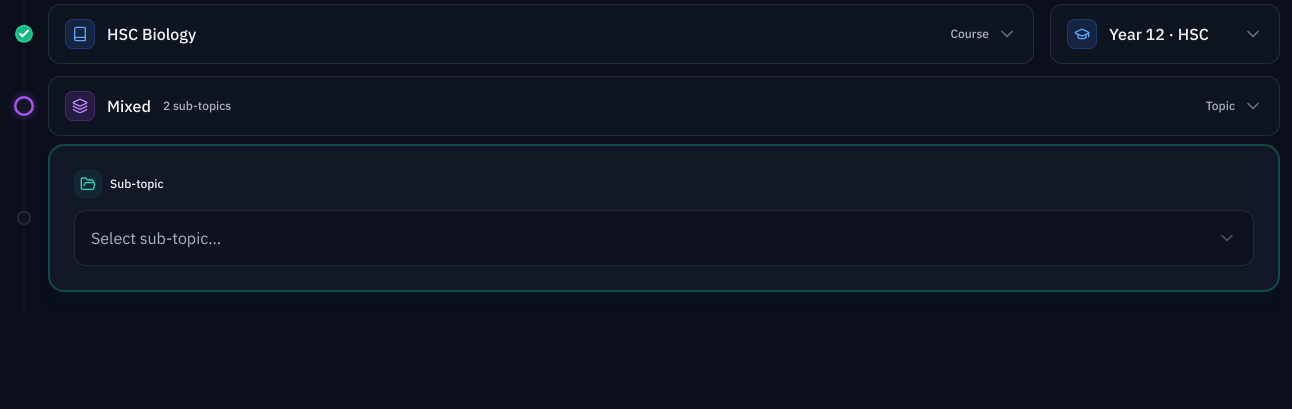
Test: the sub-topic question count › shows the total question count for a populated sub-topic, and says when one is empty
Click the button "Select sub-topic…" at (156, 238), box [74,210,1254,266]
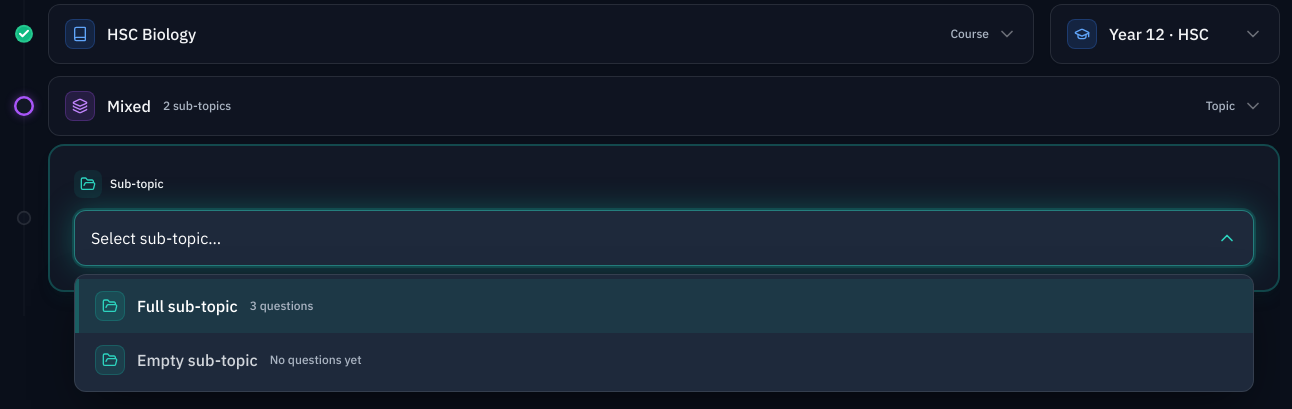
Expected: the text "3 questions" is shown, [250,298,314,314]
Expected: the text "No questions yet" is shown, [270,352,362,368]
